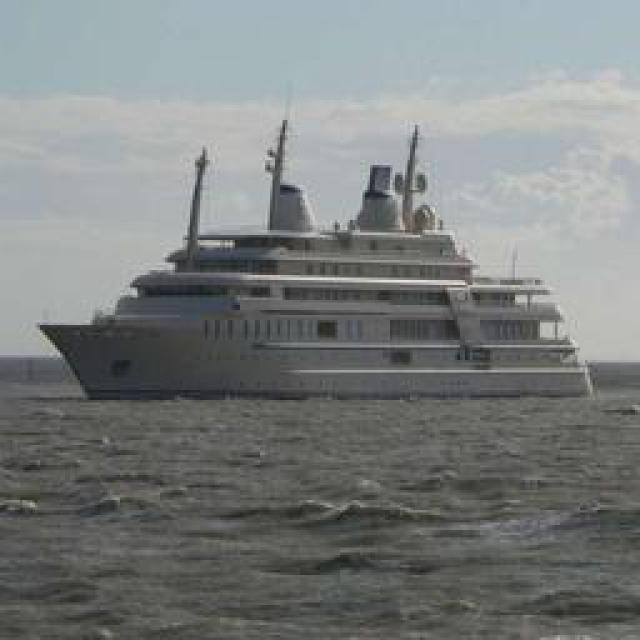Ship: (32, 121, 595, 401)
